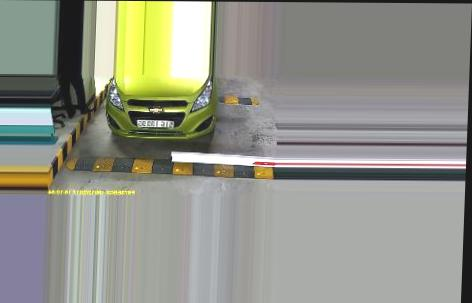License_Plate: (136, 117, 175, 128)
